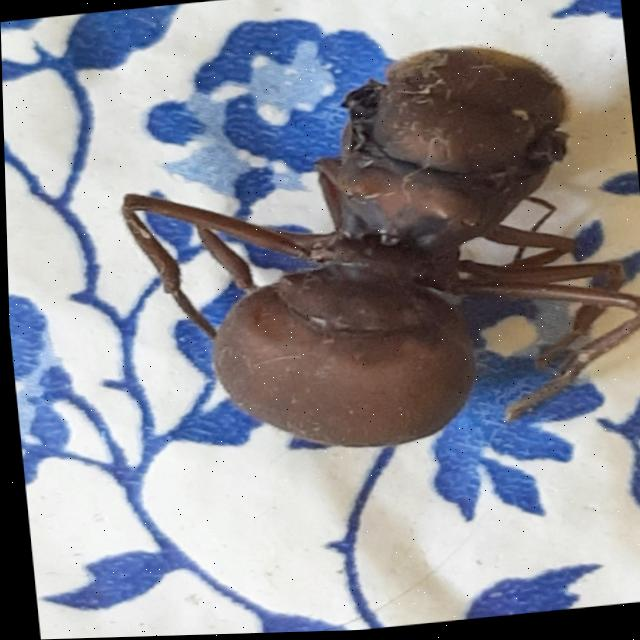Dead-Female-Dealate: (104, 30, 640, 473)
